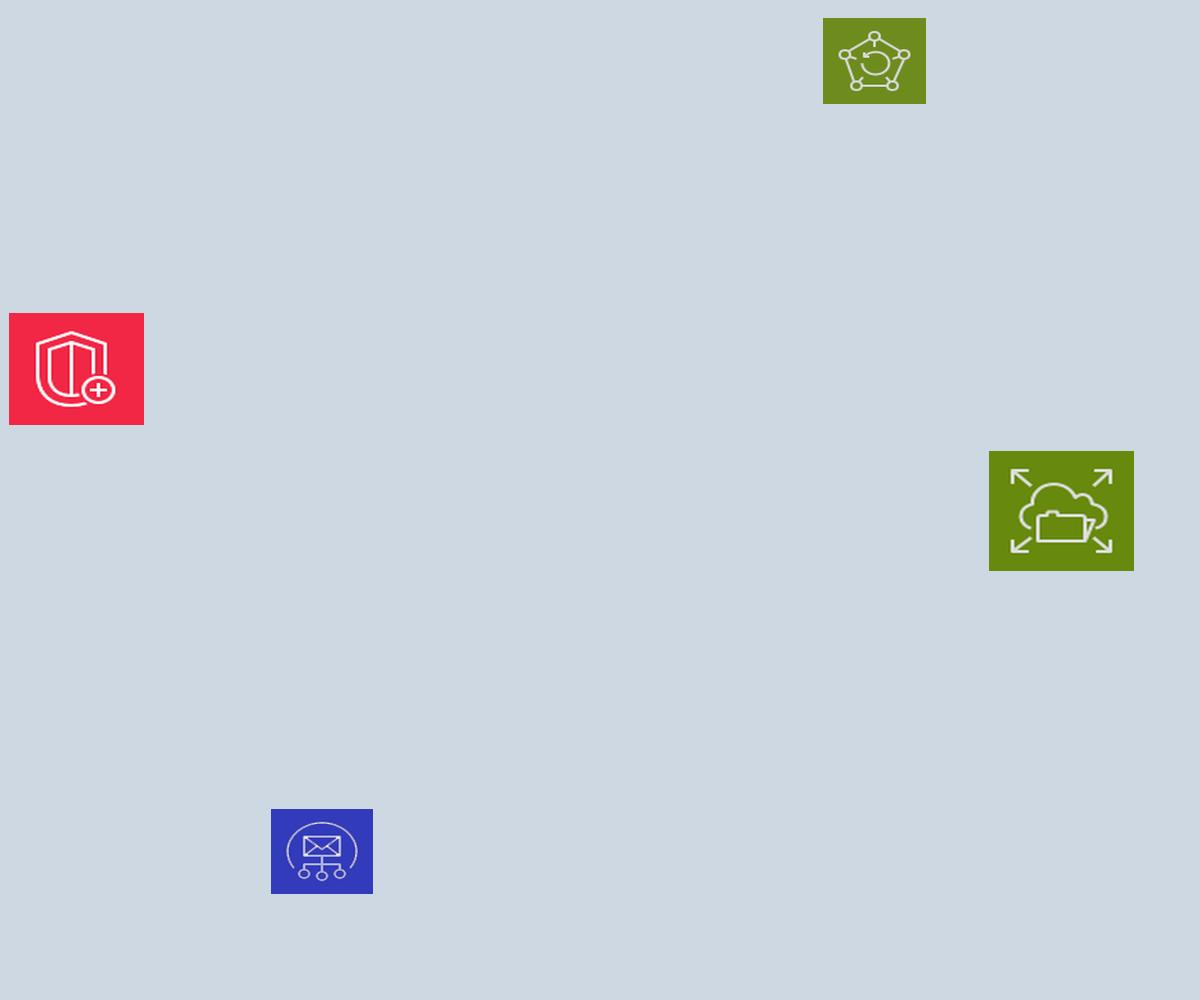AWS-Backup: (823, 18, 926, 104)
AWS-EFS: (989, 451, 1134, 571)
AWS-Shield: (9, 313, 144, 425)
AWS-Simple-Email-Service: (271, 809, 373, 894)
